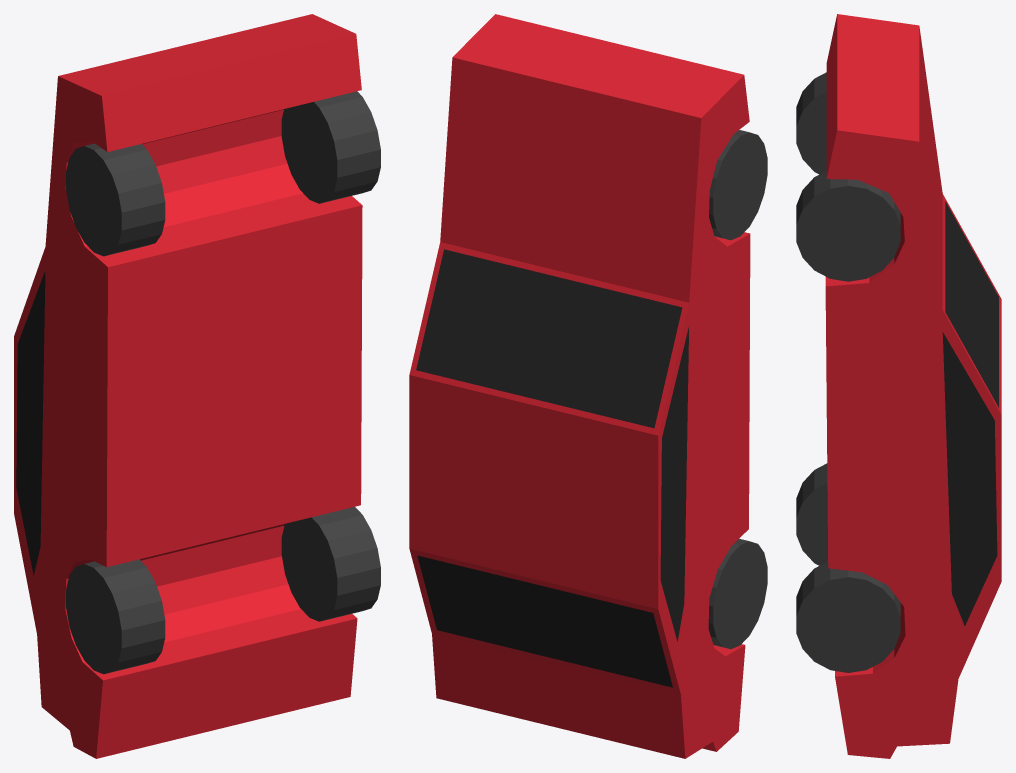
Rendered from car_red.dae.
3 renders of one model, left to right at view 1: azimuth 30°, elevation 25°; view 2: azimuth 150°, elevation 25°; view 3: azimuth 270°, elevation 25°, orthographic. The views are drawn at different scales.
Visible parts, largest first — view 1: body.006, wheel_rr, wheel_fr, wheel_rl, wheel_fl; view 2: body.006, wheel_rr, wheel_fr; view 3: body.006, wheel_rl, wheel_fl, wheel_rr, wheel_fr.
Part boxes in pixels (box(x1,y1,x2,y2)): body.006: box(14, 14, 362, 758); wheel_rr: box(66, 559, 165, 674); wheel_fr: box(66, 143, 165, 256); wheel_rl: box(281, 507, 380, 621); wheel_fl: box(281, 91, 380, 203); body.006: box(409, 14, 750, 758); wheel_rr: box(708, 538, 767, 649); wheel_fr: box(709, 130, 767, 240); body.006: box(825, 14, 1001, 758); wheel_rl: box(796, 561, 900, 672); wheel_fl: box(796, 171, 900, 281); wheel_rr: box(796, 463, 827, 565); wheel_fr: box(796, 72, 826, 174).
Bounding box in the file's own units: 2.04 × 1.49 × 5.04.
